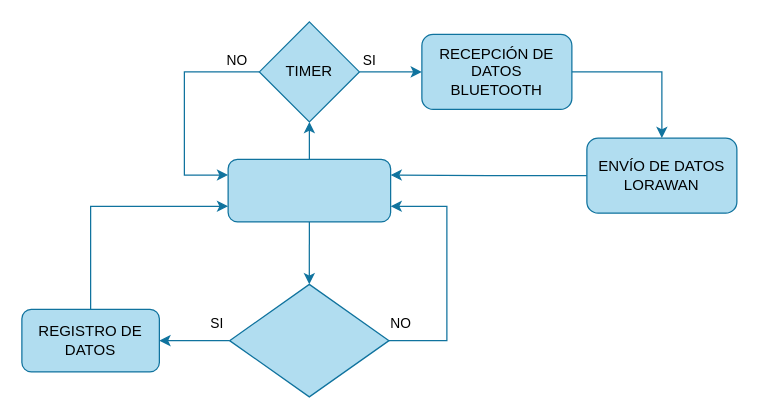
The diagram is 759 pixels wide and 419 high, and some of its shapes have lost their labels. Here are the shapes that lost their labels. From the top down, the centre of each, then its label:
(x=309, y=190): MODO LOW POWER
(x=308, y=340): INTERRUPCIÓN ACTIVIDAD
